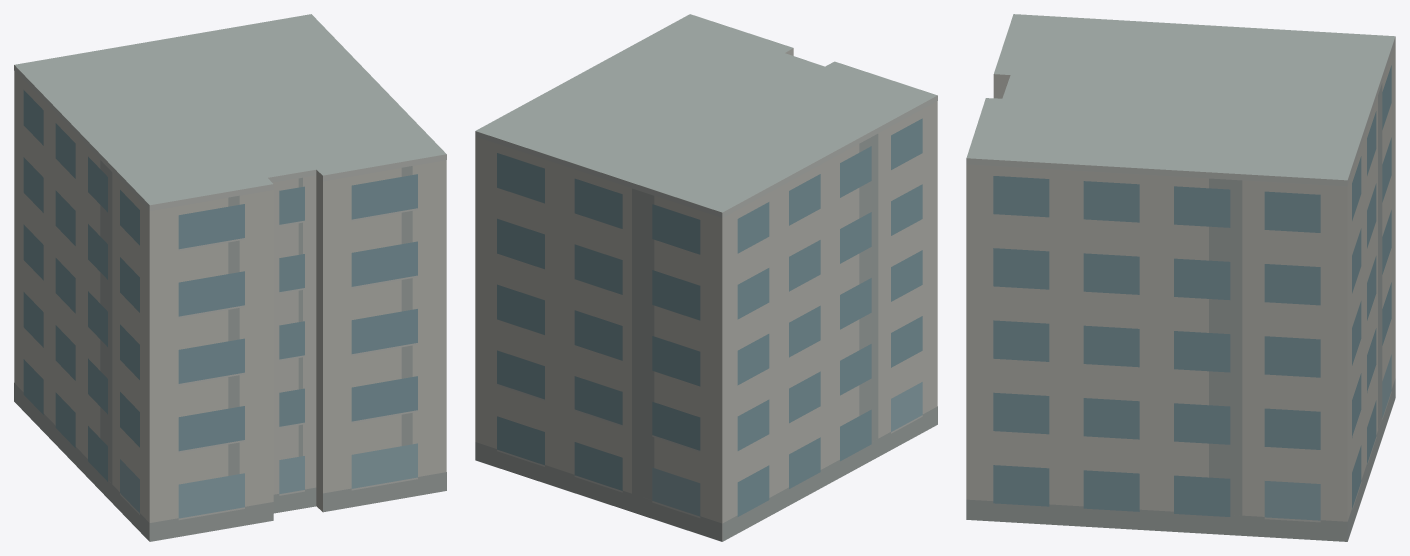
The model's file is survey-upis-32893377.glb.
The picture shows the model from 3 angles, left to right: view 1: azimuth 30°, elevation 25°; view 2: azimuth 150°, elevation 25°; view 3: azimuth 270°, elevation 25°; orthographic projection. The views are drawn at different scales.
Visible parts, largest first — view 1: survey-upis-32893377.tmp; view 2: survey-upis-32893377.tmp; view 3: survey-upis-32893377.tmp.
Part boxes in pixels (x1,y1,x2,y2): survey-upis-32893377.tmp: (14,14,446,541); survey-upis-32893377.tmp: (475,14,937,541); survey-upis-32893377.tmp: (966,14,1395,541).
Bounding box in the file's own units: 14.02 × 14.2 × 15.29.
